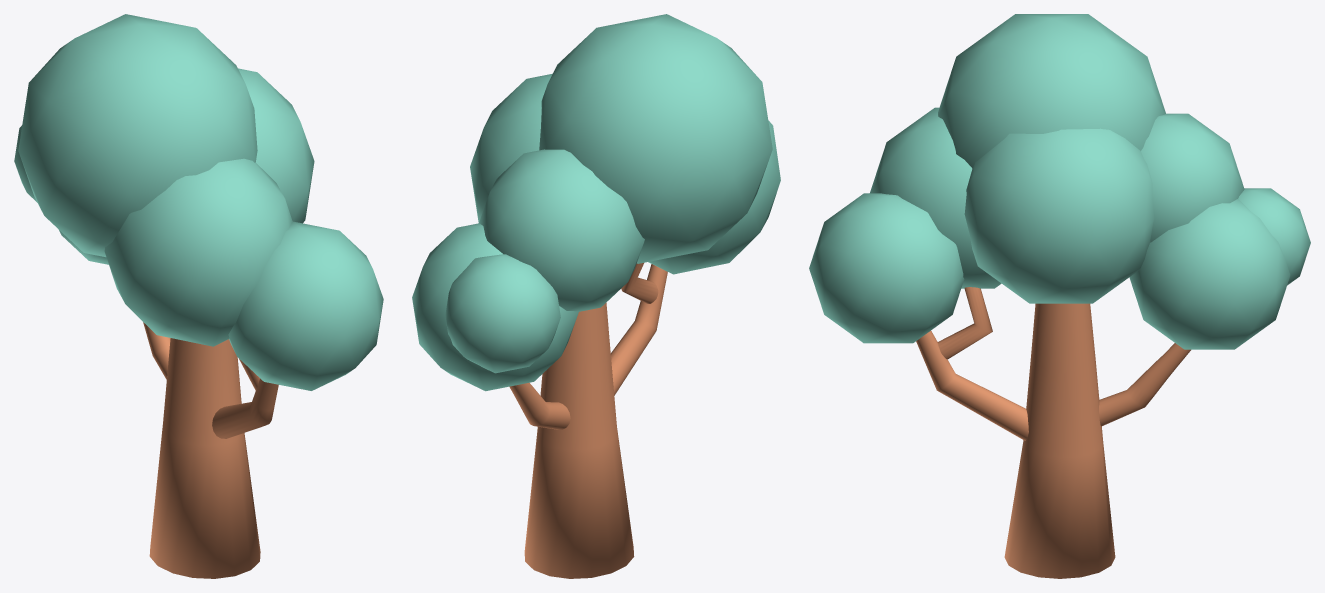
File: arbol2.fbx
3 views of the same model, side by side, from view 1: azimuth 30°, elevation 25°; view 2: azimuth 150°, elevation 25°; view 3: azimuth 270°, elevation 25° (orthographic). The views are drawn at different scales.
Visible parts, largest first — view 1: Icosphere.001, Icosphere.002; view 2: Icosphere.001, Icosphere.002; view 3: Icosphere.001, Icosphere.002.
Part boxes in pixels (x1=…): Icosphere.001: x1=14, y1=14, x2=383, y2=390; Icosphere.002: x1=143, y1=322, x2=278, y2=578; Icosphere.001: x1=412, y1=14, x2=780, y2=391; Icosphere.002: x1=509, y1=263, x2=667, y2=578; Icosphere.001: x1=809, y1=14, x2=1310, y2=349; Icosphere.002: x1=916, y1=287, x2=1190, y2=578.
Bounding box in the file's own units: 282 × 561 × 503.
